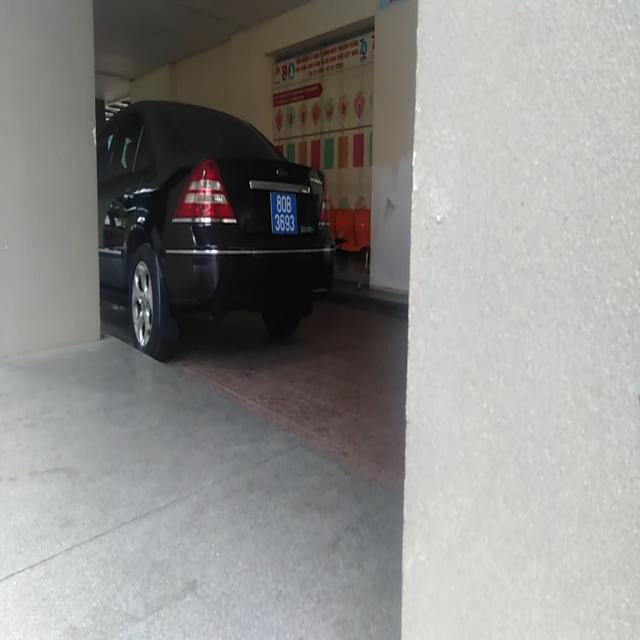bien_xanh: (265, 189, 300, 242)
